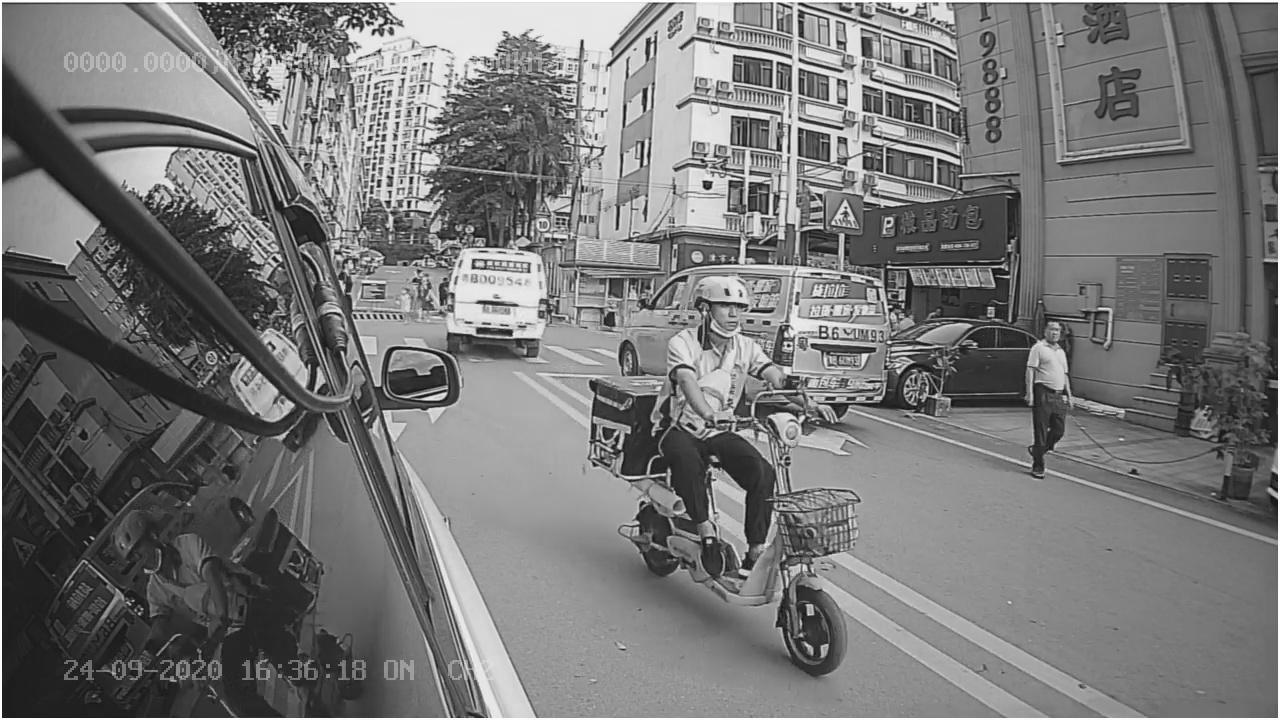person: (1002, 303, 1098, 482)
